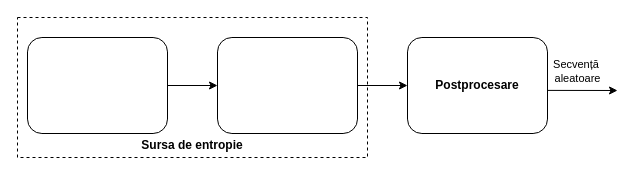
Some shapes in this 643 by 175 pixel diagram are drawn without their labels. Each missing label, with the centre of its shape:
Sistemul de măsură (Detectori): the point at 287,85
Sistemul fizic (Aleatorism): the point at 97,85
